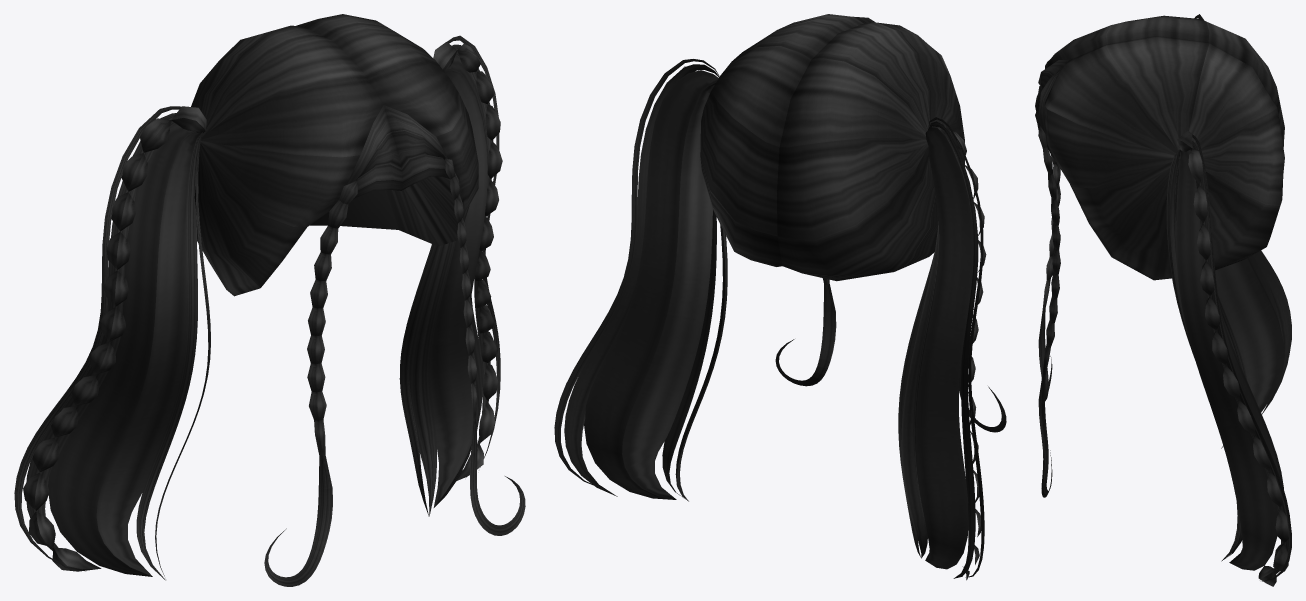
The model's file is 35-Pretty-Girl-Braided-Pigtails-in-Black-18523347427.glb.
3 renders of one model, left to right at view 1: azimuth 30°, elevation 25°; view 2: azimuth 150°, elevation 25°; view 3: azimuth 270°, elevation 25°, orthographic. The views are drawn at different scales.
Parts seen in each view (by area): view 1: 35-Pretty-Girl-Braided-Pigtails-in-Black-18523347427; view 2: 35-Pretty-Girl-Braided-Pigtails-in-Black-18523347427; view 3: 35-Pretty-Girl-Braided-Pigtails-in-Black-18523347427.
Boxes of the visible parts, box(x1,y1,x2,y2) form: 35-Pretty-Girl-Braided-Pigtails-in-Black-18523347427: box(14, 14, 525, 586); 35-Pretty-Girl-Braided-Pigtails-in-Black-18523347427: box(554, 14, 1006, 580); 35-Pretty-Girl-Braided-Pigtails-in-Black-18523347427: box(1035, 14, 1291, 586).
Size of the model in its own units: 2.85 by 3.02 by 1.48.
Materials: 1 (1 with a texture image).
